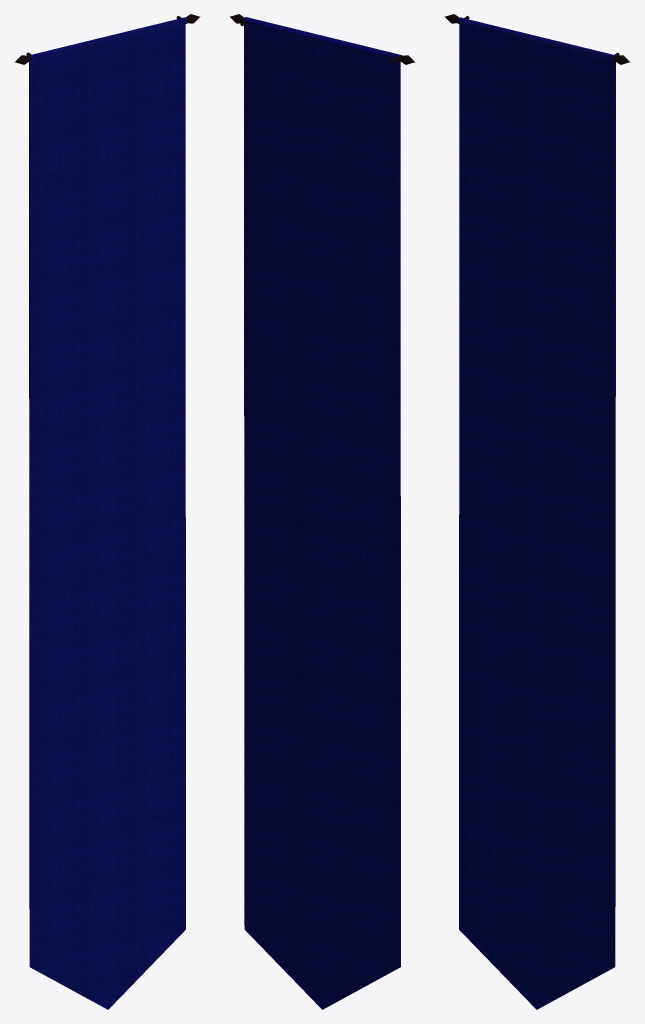
File: blueBannerSF.obj
3 views of the same model, side by side, from view 1: azimuth 30°, elevation 25°; view 2: azimuth 150°, elevation 25°; view 3: azimuth 330°, elevation 25° (orthographic).
Visible parts, largest first — view 1: banner; view 2: banner; view 3: banner.
Part boxes in pixels (left/top/right/bottom): banner: left=14, top=14, right=200, bottom=1009; banner: left=230, top=14, right=415, bottom=1009; banner: left=444, top=14, right=630, bottom=1009.
Bounding box in the file's own units: 128 × 639 × 8.82.
Materials: 2 (1 with a texture image).
